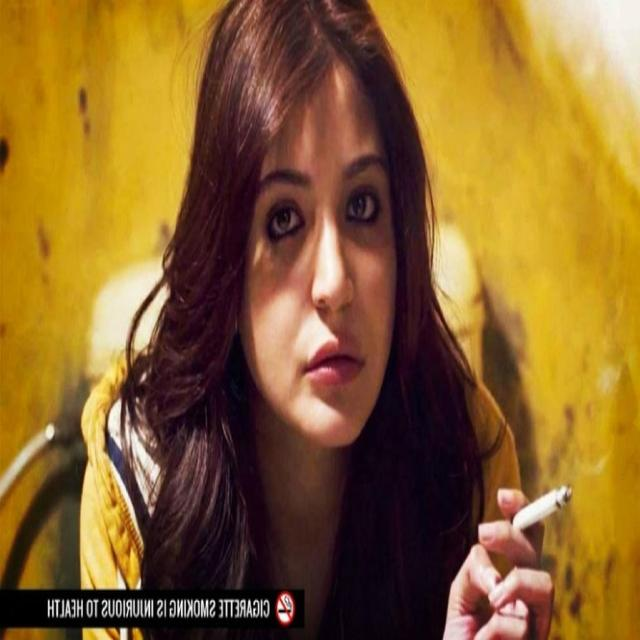smoking: (137, 12, 573, 580)
